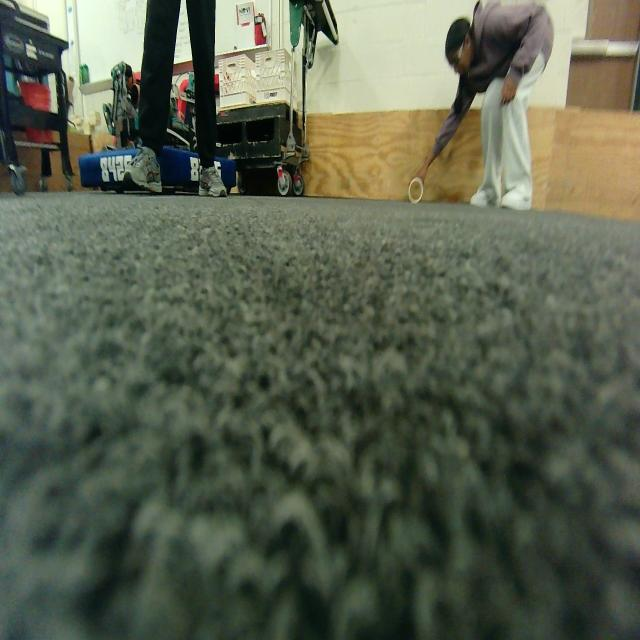coral: (408, 172, 428, 208)
